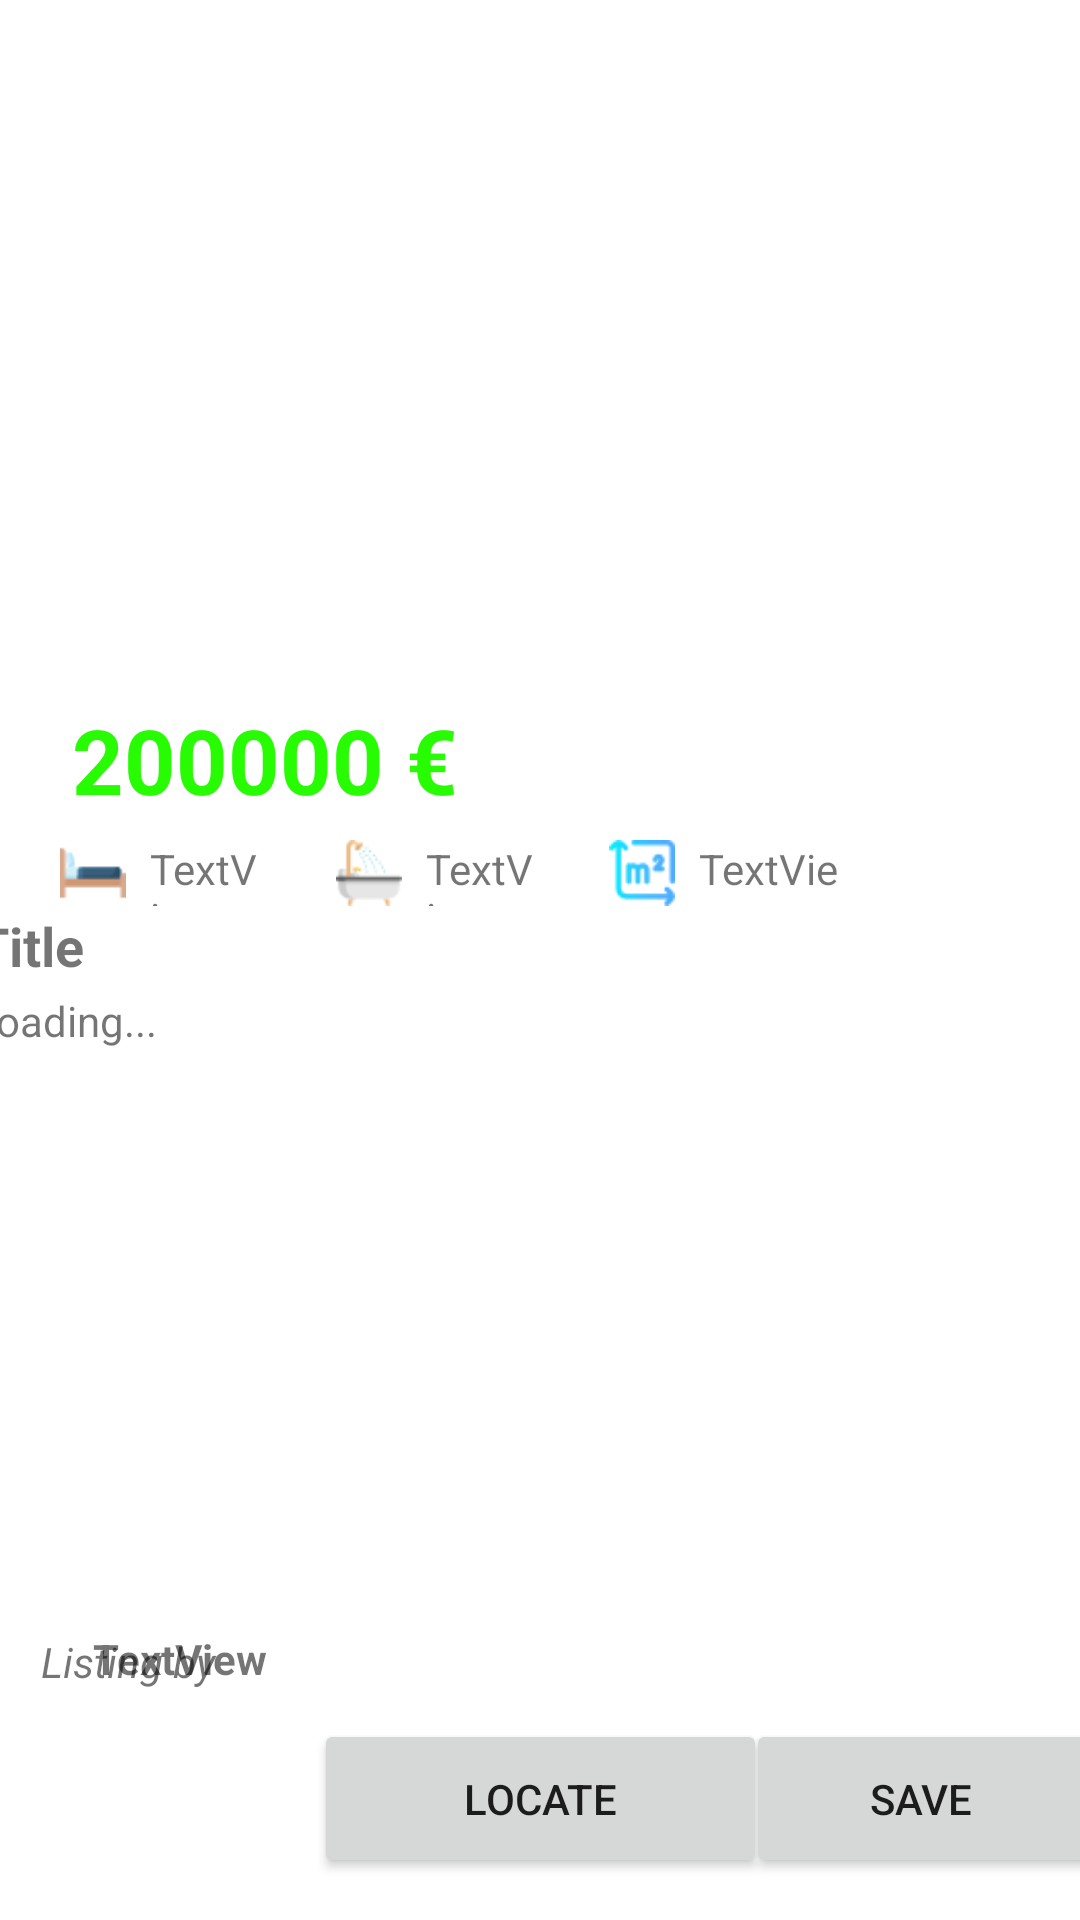

Named icons in this screenshot (1080px x 1920px) and their centers, (x=x, y=y):
bathtub: (x=369, y=873)
bed: (x=93, y=873)
m2Icon: (x=642, y=873)
